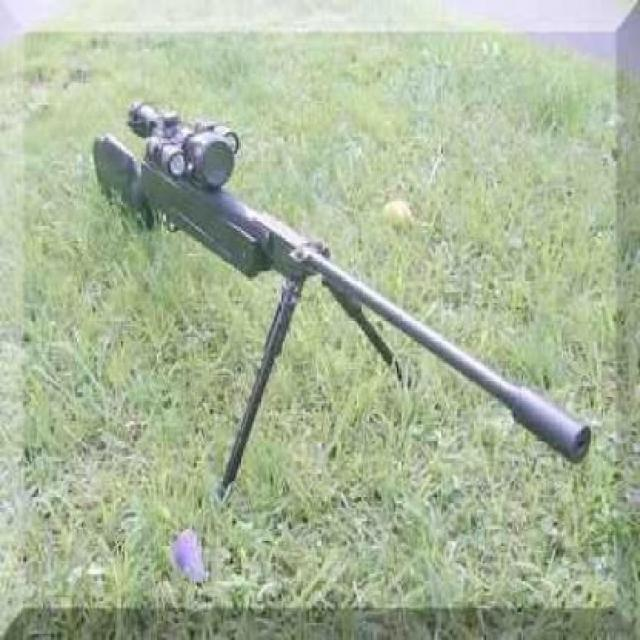weapon: (88, 100, 590, 463)
